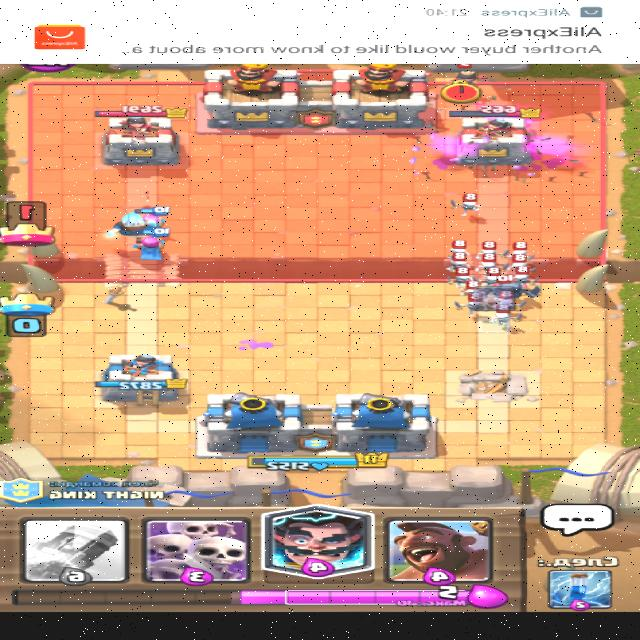Enemy-MiniPEKKA: (483, 274, 547, 298)
Enemy-Princess: (450, 62, 491, 86)
Enemy-Skeleton: (452, 291, 493, 316), (490, 303, 526, 331), (449, 192, 485, 217), (445, 266, 481, 288), (475, 239, 512, 260), (492, 289, 530, 309), (507, 253, 542, 272), (445, 238, 475, 260), (444, 251, 474, 273), (474, 252, 506, 272), (507, 240, 538, 260), (514, 266, 543, 282), (458, 280, 486, 294), (486, 267, 506, 282)
Player-Archer: (133, 227, 175, 260), (136, 204, 176, 227)
Player-IceWizard: (106, 211, 159, 239)
